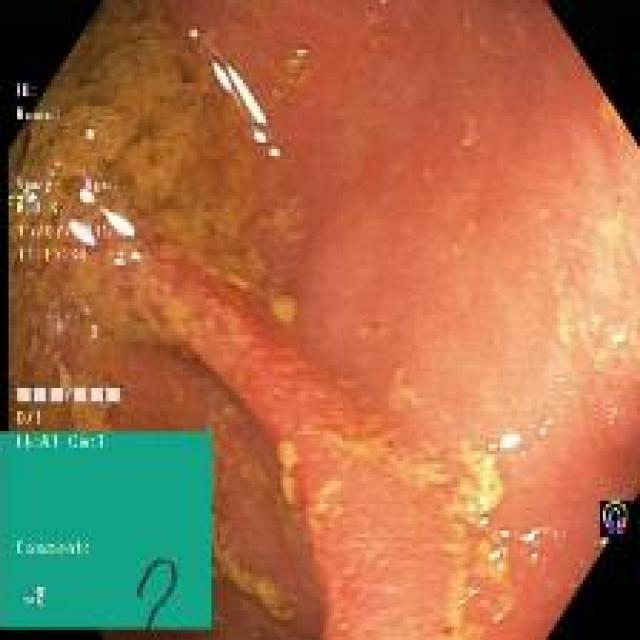ulcerative-colitis-grade-1: (10, 3, 640, 638)
